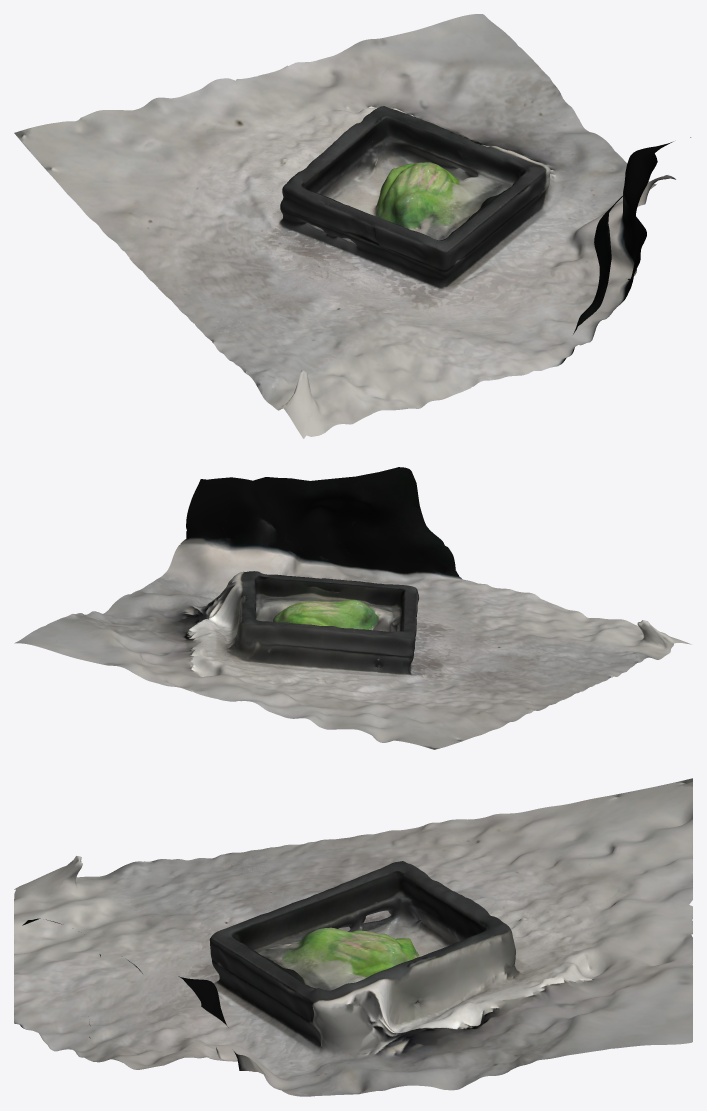
3 views of the same model, one above another, from view 1: azimuth 30°, elevation 25°; view 2: azimuth 150°, elevation 25°; view 3: azimuth 270°, elevation 25° (orthographic). The views are drawn at different scales.
Size of the model in its own units: 1.87 by 0.512 by 1.99.
Materials: 1 (1 with a texture image).
